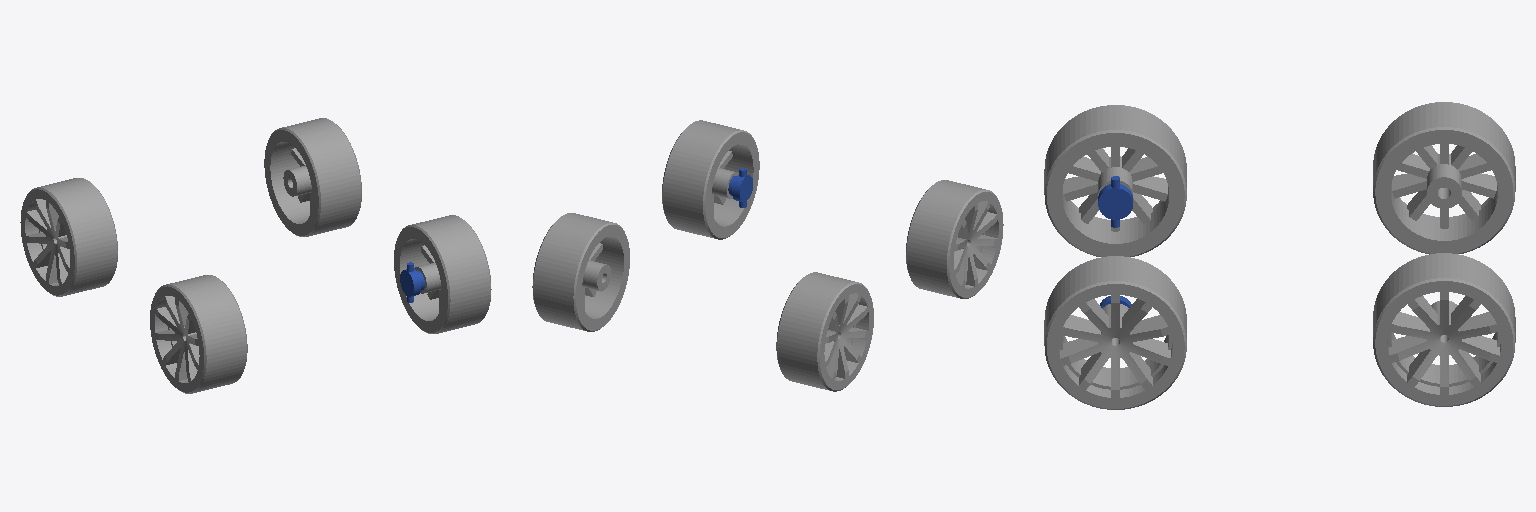
robot.urdf — onshape:
<robot name="onshape">
<link name="base_link">
<visual>
<origin xyz="0.0087080525256227753195 0.011073064266820448198 -0.015341633187382200387" rpy="0 -0 0" />
<geometry>
<mesh filename="package://jetracer_description/meshes/base_link.stl"/>
</geometry>
<material name="base_link_material">
<color rgba="0.61568627450980395466 0.81176470588235294379 0.92941176470588238168 1.0"/>
</material>
</visual>
<collision>
<origin xyz="0.0087080525256227753195 0.011073064266820448198 -0.015341633187382200387" rpy="0 -0 0" />
<geometry>
<mesh filename="package://jetracer_description/meshes/base_link.stl"/>
</geometry>
</collision>
<inertial>
<origin xyz="0.0087080525256227510333 0.021073889490614984565 0.0015088698608053188743" rpy="0 0 0"/>
<mass value="1.8406011312543528735" />
<inertia ixx="0.01437259083730600337" ixy="0"  ixz="0" iyy="0.0024798752812298968835" iyz="-0.00056745694828192990485" izz="0.016253045318344521569" />
</inertial>
</link>

<link name="wheel">
<visual>
<origin xyz="-0.074999999999999983347 -0.015298850000000051297 0.078299999999999952971" rpy="-1.570796326794896558 -1.570796326794896336 0" />
<geometry>
<mesh filename="package://jetracer_description/meshes/wheel.stl"/>
</geometry>
<material name="wheel_material">
<color rgba="0.64705882352941179736 0.64705882352941179736 0.64705882352941179736 1.0"/>
</material>
</visual>
<collision>
<origin xyz="-0.074999999999999983347 -0.015298850000000051297 0.078299999999999952971" rpy="-1.570796326794896558 -1.570796326794896336 0" />
<geometry>
<mesh filename="package://jetracer_description/meshes/wheel.stl"/>
</geometry>
</collision>
<inertial>
<origin xyz="2.0902193138729243591e-17 -6.9388939039072283776e-18 -0.0038611038768896627227" rpy="0 0 0"/>
<mass value="0.05657552112980390735" />
<inertia ixx="2.2657358073729853522e-05" ixy="0"  ixz="3.8804929864124449623e-21" iyy="2.265735807014167288e-05" iyz="0" izz="3.8036402429236235774e-05" />
</inertial>
</link>

<joint name="w1" type="revolute">
<origin xyz="-0.069591947474377163774 0.086073064266820473178 -4.2783187382156029344e-05" rpy="1.570796326794896558 -0 1.570796326794896336" />
<parent link="base_link" />
<child link="wheel" />
<axis xyz="0 0 1"/>
<limit effort="1" velocity="20" lower="0" upper="6.283185307179586232"/>
<joint_properties friction="0.0"/>
</joint>

<link name="wheel_2">
<visual>
<origin xyz="-0.074999999999999969469 0.015298850000000051297 -0.078299999999999952971" rpy="1.570796326794896558 1.570796326794896336 0" />
<geometry>
<mesh filename="package://jetracer_description/meshes/wheel.stl"/>
</geometry>
<material name="wheel_material">
<color rgba="0.64705882352941179736 0.64705882352941179736 0.64705882352941179736 1.0"/>
</material>
</visual>
<collision>
<origin xyz="-0.074999999999999969469 0.015298850000000051297 -0.078299999999999952971" rpy="1.570796326794896558 1.570796326794896336 0" />
<geometry>
<mesh filename="package://jetracer_description/meshes/wheel.stl"/>
</geometry>
</collision>
<inertial>
<origin xyz="3.4779980946543697265e-17 6.9388939039072283776e-18 0.0038611038768896627227" rpy="0 0 0"/>
<mass value="0.05657552112980390735" />
<inertia ixx="2.2657358073729853522e-05" ixy="0"  ixz="-3.8804929864124449623e-21" iyy="2.265735807014167288e-05" iyz="0" izz="3.8036402429236235774e-05" />
</inertial>
</link>

<joint name="w2" type="revolute">
<origin xyz="0.087008052525622714413 0.086073064266820473178 -4.2783187382156029344e-05" rpy="1.570796326794896558 -0 1.57079632679489678" />
<parent link="base_link" />
<child link="wheel_2" />
<axis xyz="0 0 1"/>
<limit effort="1" velocity="20" lower="-6.283185307179586232" upper="-0"/>
<joint_properties friction="0.0"/>
</joint>

<link name="control_arm">
<visual>
<origin xyz="0.059999999337062570604 -0.074999982591483299599 0.0017999999999999995171" rpy="3.141592653589793116 -0 -1.9156308376613688848e-63" />
<geometry>
<mesh filename="package://jetracer_description/meshes/control_arm.stl"/>
</geometry>
<material name="control_arm_material">
<color rgba="0.2313725490196078538 0.38039215686274507888 0.7058823529411765163 1.0"/>
</material>
</visual>
<collision>
<origin xyz="0.059999999337062570604 -0.074999982591483299599 0.0017999999999999995171" rpy="3.141592653589793116 -0 -1.9156308376613688848e-63" />
<geometry>
<mesh filename="package://jetracer_description/meshes/control_arm.stl"/>
</geometry>
</collision>
<inertial>
<origin xyz="-0.0032879162357677960138 -1.2156763096182743311e-10 -0.011999988120193946436" rpy="0 0 0"/>
<mass value="0.0019796074169460275982" />
<inertia ixx="5.6717393901809502999e-08" ixy="-4.7616299452556483604e-16"  ixz="-7.7066964230395483486e-15" iyy="8.246167844903081074e-08" iyz="-1.0649173921704506123e-13" izz="6.9707077822163760312e-08" />
</inertial>
</link>

<link name="wheel_3">
<visual>
<origin xyz="-0.074999999999999983347 -0.015298850000000049562 0.078299999999999939093" rpy="-1.570796326794896558 -1.570796326794896336 0" />
<geometry>
<mesh filename="package://jetracer_description/meshes/wheel.stl"/>
</geometry>
<material name="wheel_material">
<color rgba="0.64705882352941179736 0.64705882352941179736 0.64705882352941179736 1.0"/>
</material>
</visual>
<collision>
<origin xyz="-0.074999999999999983347 -0.015298850000000049562 0.078299999999999939093" rpy="-1.570796326794896558 -1.570796326794896336 0" />
<geometry>
<mesh filename="package://jetracer_description/meshes/wheel.stl"/>
</geometry>
</collision>
<inertial>
<origin xyz="2.0902193138729243591e-17 -5.2041704279304212832e-18 -0.0038611038768896766005" rpy="0 0 0"/>
<mass value="0.05657552112980390735" />
<inertia ixx="2.2657358073729853522e-05" ixy="0"  ixz="3.8804929864124449623e-21" iyy="2.265735807014167288e-05" iyz="0" izz="3.8036402429236235774e-05" />
</inertial>
</link>

<joint name="w3" type="revolute">
<origin xyz="-0.018299999999999996825 -2.7755575615628913511e-17 -0.01199999999999999678" rpy="-1.570796326794896336 -0 -1.570796326794896558" />
<parent link="control_arm" />
<child link="wheel_3" />
<axis xyz="0 0 1"/>
<limit effort="1" velocity="20" lower="0" upper="6.283185307179586232"/>
<joint_properties friction="0.0"/>
</joint>

<joint name="control_arm1" type="revolute">
<origin xyz="-0.051291946811439795284 -0.063926918324662851401 -0.013541633187382176584" rpy="-3.141592653589793116 1.1832913578315177081e-30 -6.5108994622048053999e-47" />
<parent link="base_link" />
<child link="control_arm" />
<axis xyz="0 0 1"/>
<limit effort="1" velocity="20" lower="-1.570796326794896558" upper="1.570796326794896558"/>
<joint_properties friction="0.0"/>
</joint>

<link name="control_arm_2">
<visual>
<origin xyz="0.059999999337062570604 -0.074999982591483299599 0.0017999999999999995171" rpy="3.141592653589793116 -0 0" />
<geometry>
<mesh filename="package://jetracer_description/meshes/control_arm.stl"/>
</geometry>
<material name="control_arm_material">
<color rgba="0.2313725490196078538 0.38039215686274507888 0.7058823529411765163 1.0"/>
</material>
</visual>
<collision>
<origin xyz="0.059999999337062570604 -0.074999982591483299599 0.0017999999999999995171" rpy="3.141592653589793116 -0 0" />
<geometry>
<mesh filename="package://jetracer_description/meshes/control_arm.stl"/>
</geometry>
</collision>
<inertial>
<origin xyz="-0.0032879162357677960138 -1.2156763096182743311e-10 -0.011999988120193946436" rpy="0 0 0"/>
<mass value="0.0019796074169460275982" />
<inertia ixx="5.6717393901809502999e-08" ixy="-4.7616299452556483604e-16"  ixz="-7.7066964230395483486e-15" iyy="8.246167844903081074e-08" iyz="-1.0649173921704506123e-13" izz="6.9707077822163760312e-08" />
</inertial>
</link>

<link name="wheel_4">
<visual>
<origin xyz="-0.074999999999999983347 -0.015298850000000053032 0.078299999999999939093" rpy="-1.570796326794896558 -1.570796326794896336 0" />
<geometry>
<mesh filename="package://jetracer_description/meshes/wheel.stl"/>
</geometry>
<material name="wheel_material">
<color rgba="0.64705882352941179736 0.64705882352941179736 0.64705882352941179736 1.0"/>
</material>
</visual>
<collision>
<origin xyz="-0.074999999999999983347 -0.015298850000000053032 0.078299999999999939093" rpy="-1.570796326794896558 -1.570796326794896336 0" />
<geometry>
<mesh filename="package://jetracer_description/meshes/wheel.stl"/>
</geometry>
</collision>
<inertial>
<origin xyz="2.0902193138729243591e-17 -8.6736173798840354721e-18 -0.0038611038768896766005" rpy="0 0 0"/>
<mass value="0.05657552112980390735" />
<inertia ixx="2.2657358073729853522e-05" ixy="0"  ixz="3.8804929864124449623e-21" iyy="2.265735807014167288e-05" iyz="0" izz="3.8036402429236235774e-05" />
</inertial>
</link>

<joint name="w4" type="revolute">
<origin xyz="-0.018300000000000010703 0 -0.012000000000000005454" rpy="1.570796326794896336 -0 1.570796326794896558" />
<parent link="control_arm_2" />
<child link="wheel_4" />
<axis xyz="0 0 1"/>
<limit effort="1" velocity="20" lower="0" upper="6.283185307179586232"/>
<joint_properties friction="0.0"/>
</joint>

<joint name="control_arm2" type="revolute">
<origin xyz="0.068708051862685345923 -0.063926918324662823645 -0.013541633187382176584" rpy="3.141592653589793116 -0 3.141592653589793116" />
<parent link="base_link" />
<child link="control_arm_2" />
<axis xyz="0 0 1"/>
<limit effort="1" velocity="20" lower="-1.570796326794896558" upper="1.570796326794896558"/>
<joint_properties friction="0.0"/>
</joint>


</robot>

--- Facts derived from the render (not from the file) ---
Views: 3 orthographic renders of the robot side by side, from view 1: azimuth 30°, elevation 25°; view 2: azimuth 150°, elevation 25°; view 3: azimuth 270°, elevation 25°.
Robot: onshape — 7 links, 6 joints (6 revolute); root link base_link; default pose: every joint at zero.
Links seen in each view (by area): view 1: wheel_2, wheel_3, wheel, wheel_4, control_arm_2; view 2: wheel, wheel_2, wheel_3, wheel_4, control_arm_2; view 3: wheel_2, wheel_4, wheel, wheel_3, control_arm.
Boxes of the visible links, bbox=[...] form: wheel_2: bbox=[264, 118, 361, 236]; wheel_3: bbox=[150, 275, 247, 393]; wheel: bbox=[20, 178, 117, 296]; wheel_4: bbox=[394, 215, 491, 333]; control_arm_2: bbox=[400, 262, 424, 302]; wheel: bbox=[776, 272, 873, 391]; wheel_2: bbox=[532, 213, 629, 331]; wheel_3: bbox=[906, 180, 1003, 298]; wheel_4: bbox=[662, 120, 759, 239]; control_arm_2: bbox=[728, 168, 752, 207]; wheel_2: bbox=[1373, 253, 1515, 406]; wheel_4: bbox=[1044, 256, 1186, 409]; wheel: bbox=[1373, 102, 1515, 254]; wheel_3: bbox=[1044, 105, 1186, 256]; control_arm: bbox=[1098, 176, 1132, 227].
Size in the robot's own frame: 0.1922 by 0.215 by 0.0665 metres.
Meshes: 3 distinct files referenced, 6 mesh visuals loaded (2 binary STL); not drawn: 1 (reference not matched to a file when rendering).